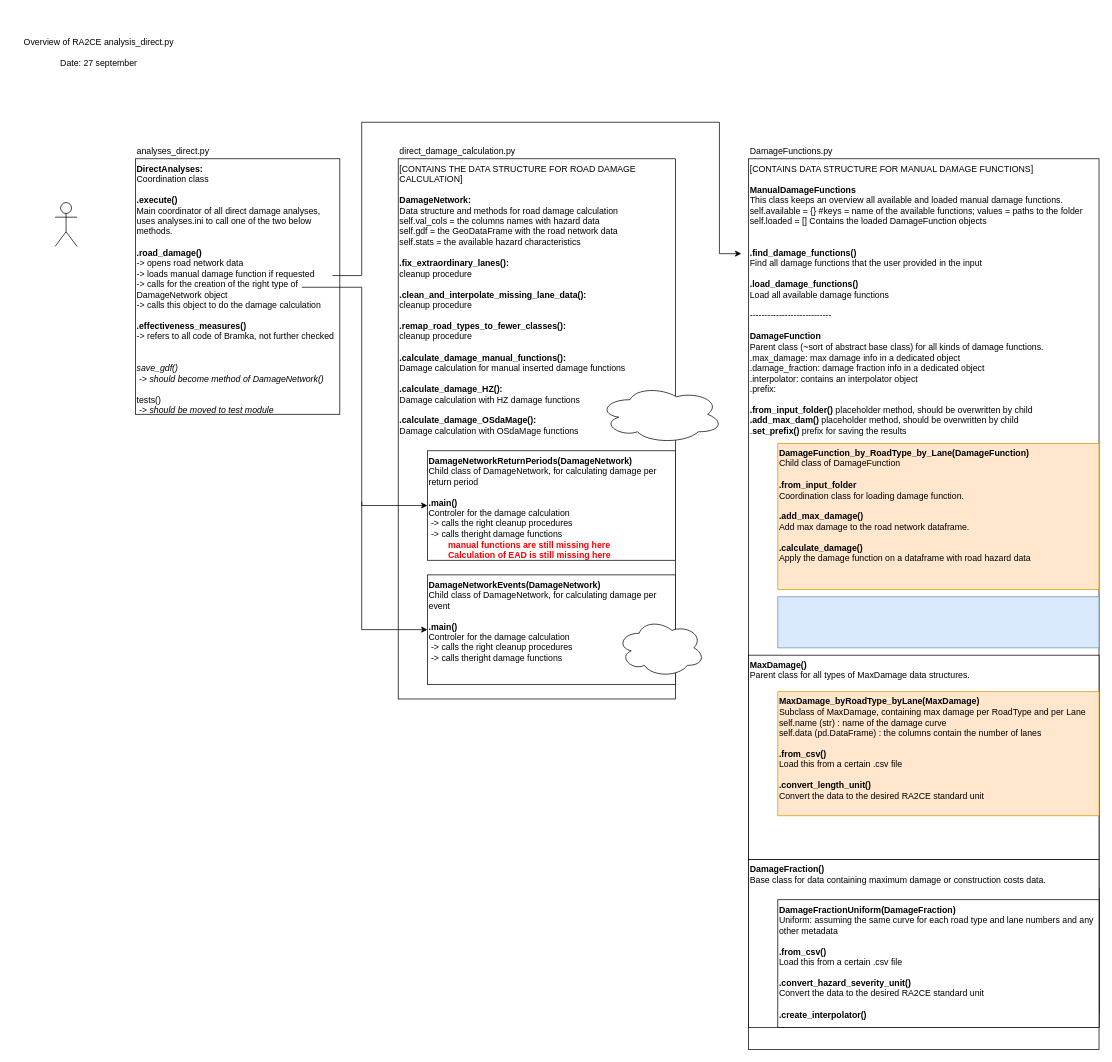
This 1112x1062 diagram has some shape labels left out. The shapes that lost their labels are listed below. From the top down, each one's centre as x and y in pixels, then its label:
At pixel 65 224: "specifies 'analysis' = 'direct' in analysis.ini".
At pixel 660 413: "The hardcoded HZ en OSdaMage functions do not yet use the DamageFunctions class".
At pixel 938 622: "Other types of damage functions can be added as new child classes".
At pixel 660 647: "These controlers should maybe be implemented at a different location".
